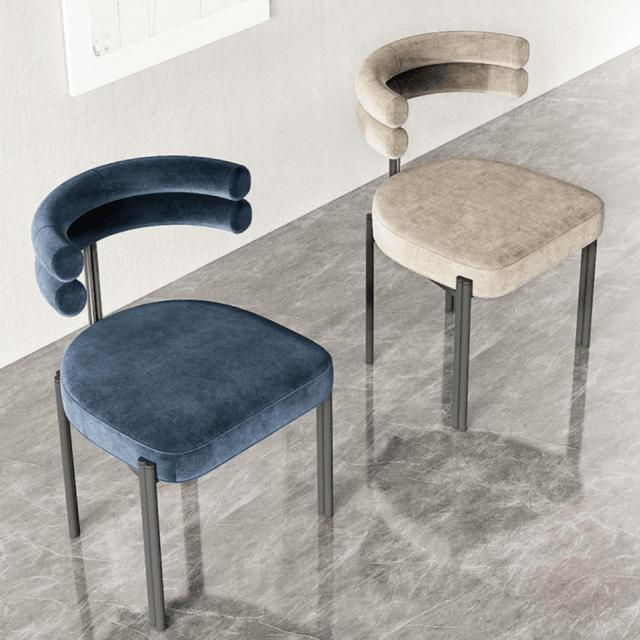chair: (27, 152, 340, 628), (349, 25, 609, 432), (23, 147, 336, 477), (347, 28, 608, 292)
